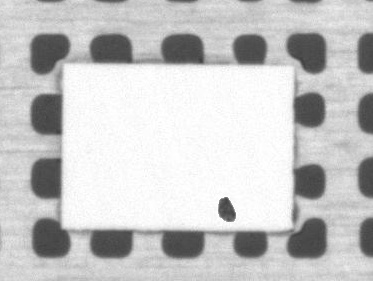DIE_INK: (287, 146, 316, 169)
